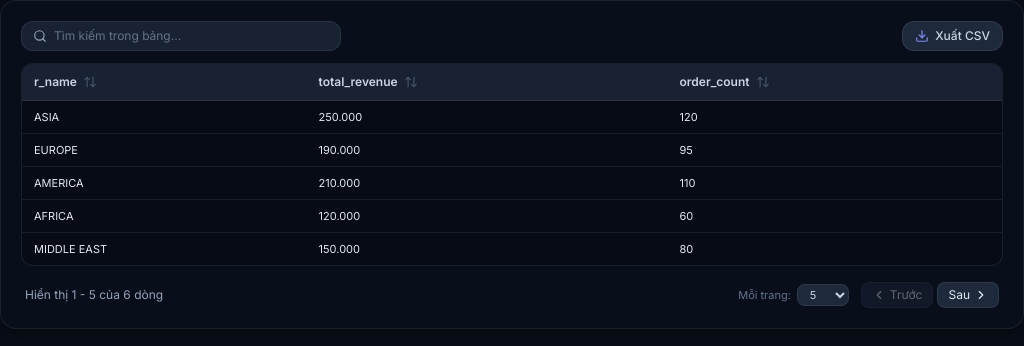
Test case: Component 4.3: DataTable › 4. Phân trang điều hướng trang trước và trang sau
This screenshot has width=1024, height=346.
expect the text "Hiển thị 1 - 5 của 6 dòng" is shown: met, box [25,287,163,303]
Note: Click sang trang sau
Click the button with aria-label "Trang sau" at (968, 295), box [938,282,999,308]
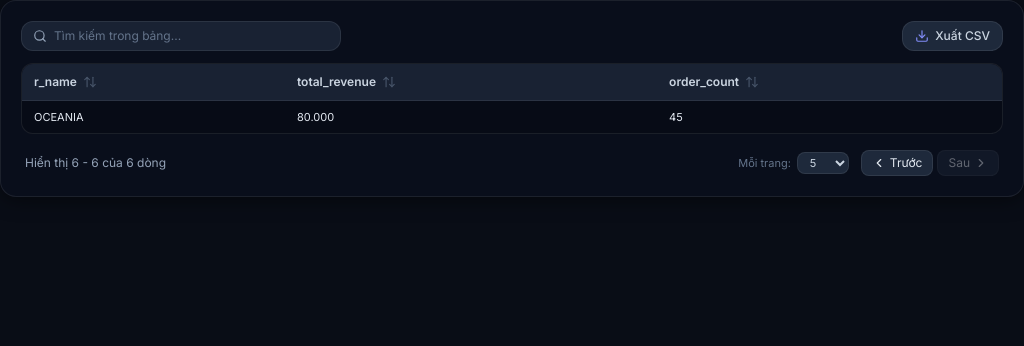
expect the text "Hiển thị 6 - 6 của 6 dòng" is shown: met, box [25,155,166,171]
expect the text "OCEANIA" is shown: met, box [22,100,285,133]
expect the text "ASIA" is gone: met
Note: Click quay lại trang trước
Click the button with aria-label "Trang trước" at (897, 163), box [861,150,933,176]
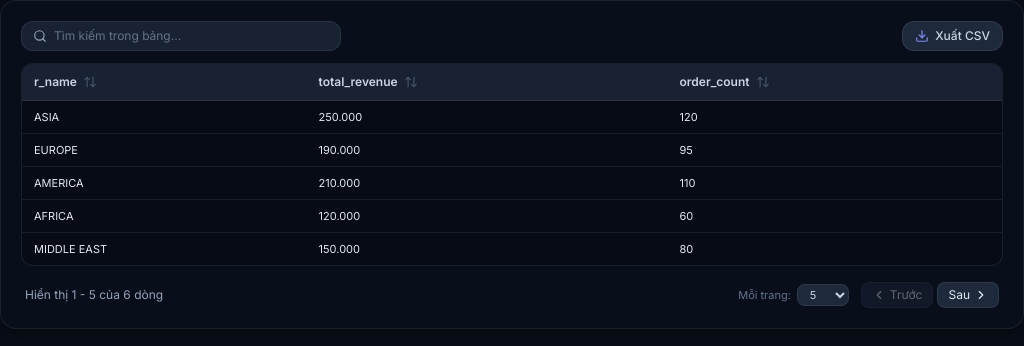
expect the text "ASIA" is shown: met, box [22,100,307,134]
